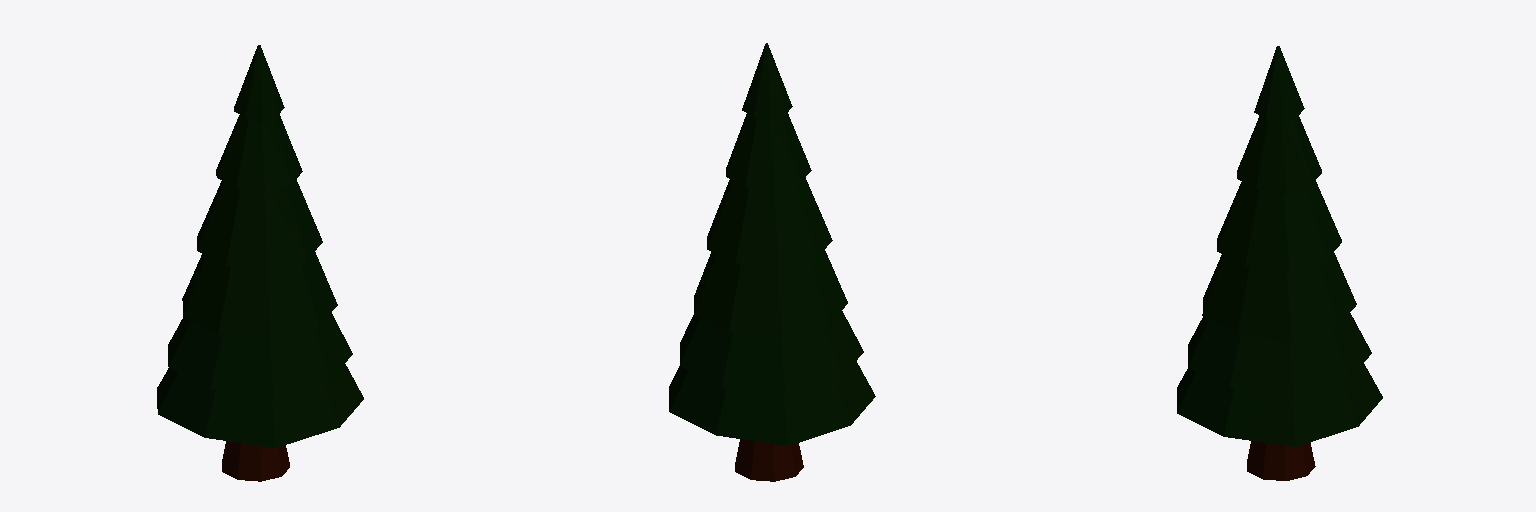
Rendered from arvore.obj.
3 renders of one model, left to right at view 1: azimuth 30°, elevation 25°; view 2: azimuth 150°, elevation 25°; view 3: azimuth 270°, elevation 25°, orthographic.
Parts seen in each view (by area): view 1: Cylinder; view 2: Cylinder; view 3: Cylinder.
Part boxes in pixels (x1,y1,x2,y2): Cylinder: (157, 45, 363, 481); Cylinder: (669, 43, 875, 481); Cylinder: (1177, 46, 1382, 480).
Size of the model in its own units: 2.31 by 5.12 by 2.28.